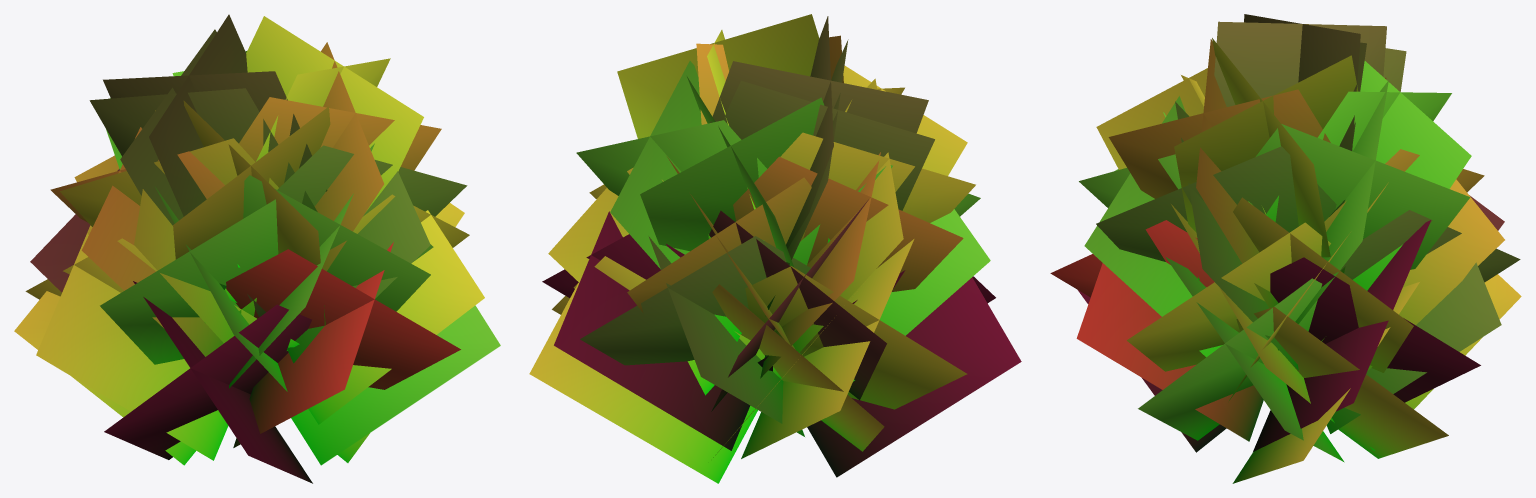
The model's file is Tree_14.fbx.
3 views of the same model, side by side, from view 1: azimuth 30°, elevation 25°; view 2: azimuth 150°, elevation 25°; view 3: azimuth 270°, elevation 25° (orthographic).
Visible parts, largest first — view 1: Tree_14; view 2: Tree_14; view 3: Tree_14.
Part boxes in pixels (box(x1,y1,x2,y2)): Tree_14: box(14, 14, 500, 483); Tree_14: box(529, 14, 1021, 483); Tree_14: box(1050, 14, 1521, 483).
Bounding box in the file's own units: 1086 × 1025 × 1036.
